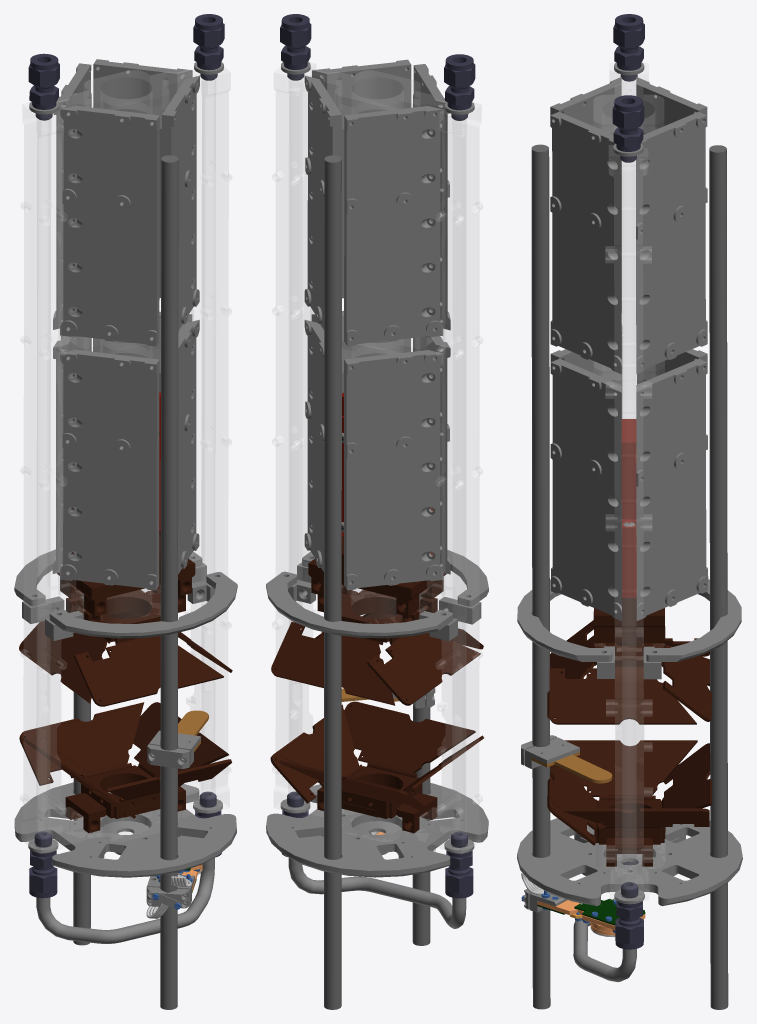
The model's file is wisard_for_G4_light2.obj.
The picture shows the model from 3 angles, left to right: view 1: azimuth 30°, elevation 25°; view 2: azimuth 150°, elevation 25°; view 3: azimuth 270°, elevation 25°; orthographic projection.
Visible parts, largest first — view 1: SOLID.006, PreAmp_holder.003, PreAmp_holder.002, _HPC_-_AWMP12-100, EndHolder, Support_v2.004, PreAmp_holderR.002, Support_v2.002, PreAmp_holderR.003, PreAmp_holder, Simple_guard_wheel, end_pipe (+19 smaller); view 2: SOLID.006, PreAmp_holderR, PreAmp_holderR.001, _HPC_-_AWMP12-100.001, EndHolder, Support_v2.006, PreAmp_holder, Support_v2, PreAmp_holderR.002, Support_v2.001, PreAmp_holder.001, Simple_guard_wheel.001 (+16 smaller); view 3: SOLID.006, PreAmp_holder.001, PreAmp_holderR.003, PreAmp_holder, PreAmp_holderR.002, _HPC_-_AWMP12-100.001, _HPC_-_AWMP12-100, EndHolder, Support_v2.003, Support_v2.007, Support_v2.005, SiPM_Am_Cooler (+21 smaller).
Part boxes in pixels (box(x1,y1,x2,y2)): SOLID.006: box(20, 67, 231, 853); PreAmp_holder.003: box(60, 349, 159, 590); PreAmp_holder.002: box(60, 105, 159, 346); _HPC_-_AWMP12-100: box(160, 155, 178, 1009); EndHolder: box(14, 782, 236, 877); Support_v2.004: box(19, 702, 144, 785); PreAmp_holderR.002: box(162, 75, 199, 330); Support_v2.002: box(74, 636, 223, 706); PreAmp_holderR.003: box(178, 319, 199, 574); PreAmp_holder: box(93, 59, 192, 297); Simple_guard_wheel: box(49, 572, 237, 638); end_pipe: box(36, 857, 214, 943); SOLID.006: box(272, 63, 482, 853); PreAmp_holderR: box(344, 106, 443, 346); PreAmp_holderR.001: box(344, 350, 443, 590); _HPC_-_AWMP12-100.001: box(324, 155, 341, 1009); EndHolder: box(266, 783, 488, 877); Support_v2.006: box(344, 701, 475, 778); PreAmp_holder: box(304, 75, 341, 340); Support_v2: box(271, 614, 395, 705); PreAmp_holderR.002: box(312, 59, 411, 298); Support_v2.001: box(366, 604, 480, 705); PreAmp_holder.001: box(304, 320, 341, 571); Simple_guard_wheel.001: box(266, 571, 453, 638); SOLID.006: box(594, 63, 664, 900); PreAmp_holder.001: box(636, 359, 707, 620); PreAmp_holderR.003: box(550, 358, 621, 621); PreAmp_holder: box(636, 112, 707, 373); PreAmp_holderR.002: box(550, 112, 621, 374); _HPC_-_AWMP12-100.001: box(709, 145, 728, 1009); _HPC_-_AWMP12-100: box(531, 144, 550, 1009); EndHolder: box(517, 818, 742, 906); Support_v2.003: box(549, 665, 696, 724); Support_v2.007: box(550, 740, 697, 800); Support_v2.005: box(562, 808, 709, 844); SiPM_Am_Cooler: box(621, 419, 636, 597).
Size of the model in its own units: 0.1265 by 0.5867 by 0.127.
